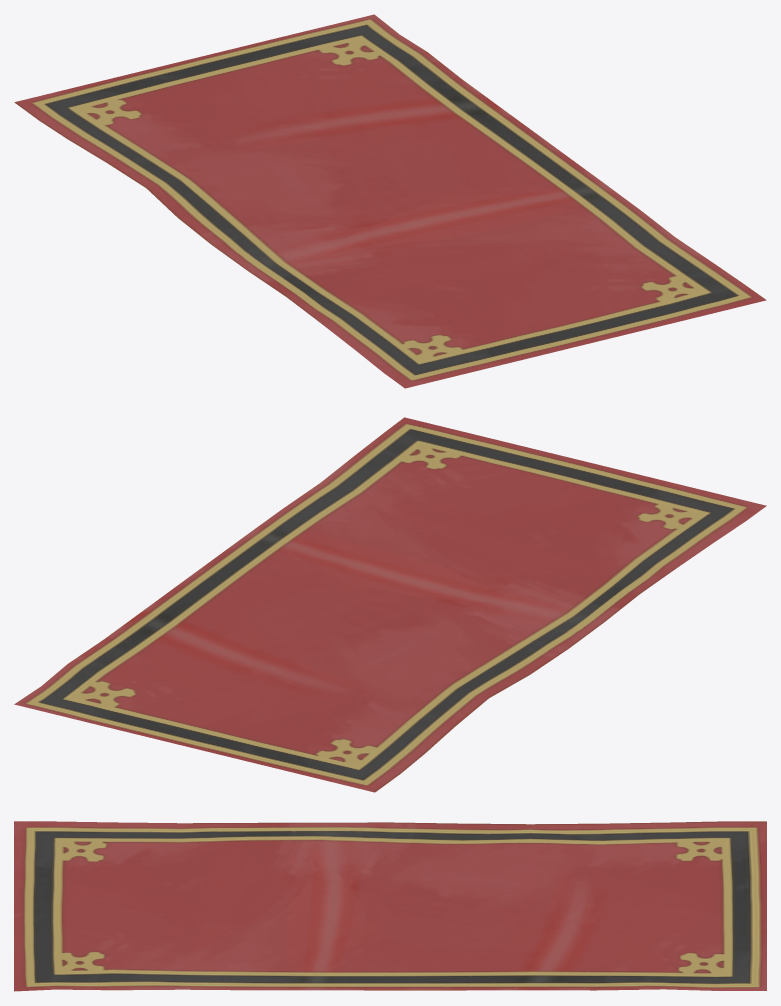
Rendered from SM_RugA.fbx.
3 renders of one model, top to bottom at view 1: azimuth 30°, elevation 25°; view 2: azimuth 150°, elevation 25°; view 3: azimuth 270°, elevation 25°, orthographic. The views are drawn at different scales.
Parts seen in each view (by area): view 1: SM_RugA_LOD0; view 2: SM_RugA_LOD0; view 3: SM_RugA_LOD0.
Part boxes in pixels (bbox=[...]): SM_RugA_LOD0: bbox=[14, 14, 766, 388]; SM_RugA_LOD0: bbox=[14, 417, 766, 792]; SM_RugA_LOD0: bbox=[14, 821, 766, 991].
Size of what is drawn, in the model's own units: 2.58 by 0.0214 by 4.84.
